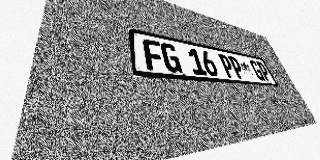1: (186, 47, 207, 76)
6: (199, 50, 219, 77)
F: (142, 38, 166, 72)
G: (160, 42, 183, 73), (249, 60, 266, 81)
P: (217, 54, 237, 78), (227, 55, 246, 79), (256, 61, 273, 82)
